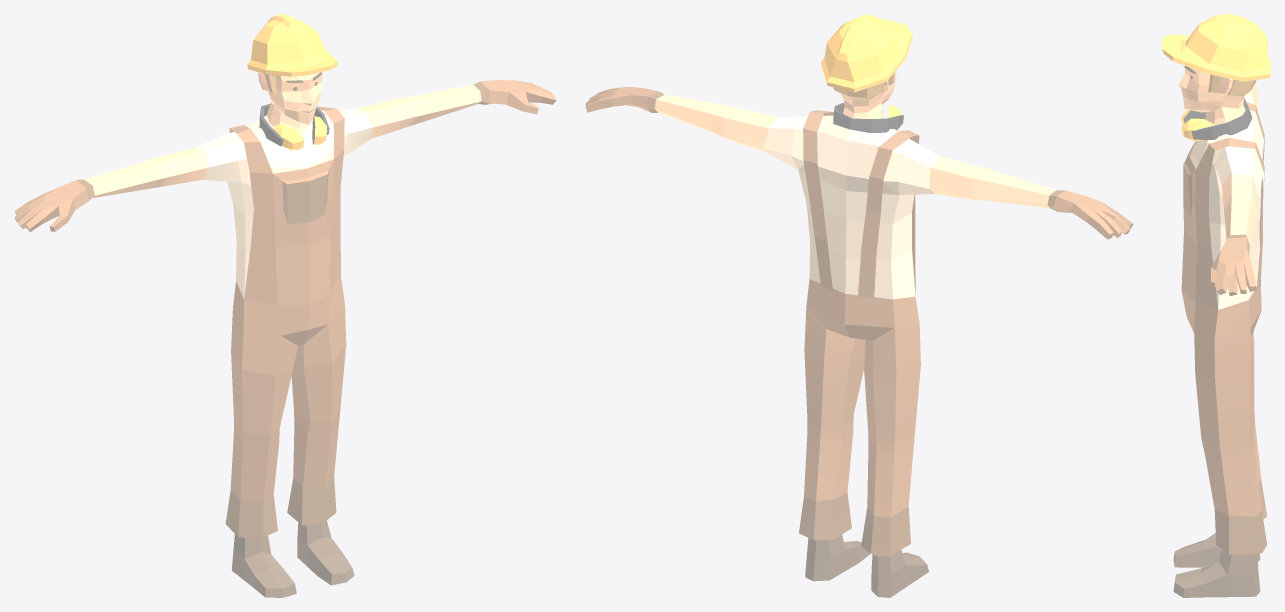
Rendered from 218_man_construction_worker.gltf.
3 views of the same model, side by side, from view 1: azimuth 30°, elevation 25°; view 2: azimuth 150°, elevation 25°; view 3: azimuth 270°, elevation 25° (orthographic).
Parts seen in each view (by area): view 1: man_construction_worker; view 2: man_construction_worker; view 3: man_construction_worker.
Boxes of the visible parts, x1,y1,x2,y2 form: man_construction_worker: [14, 14, 556, 597]; man_construction_worker: [585, 14, 1133, 597]; man_construction_worker: [1162, 14, 1270, 597].
Size of the model in its own units: 1.87 by 1.85 by 0.3248.
1 material, 1 textured.
